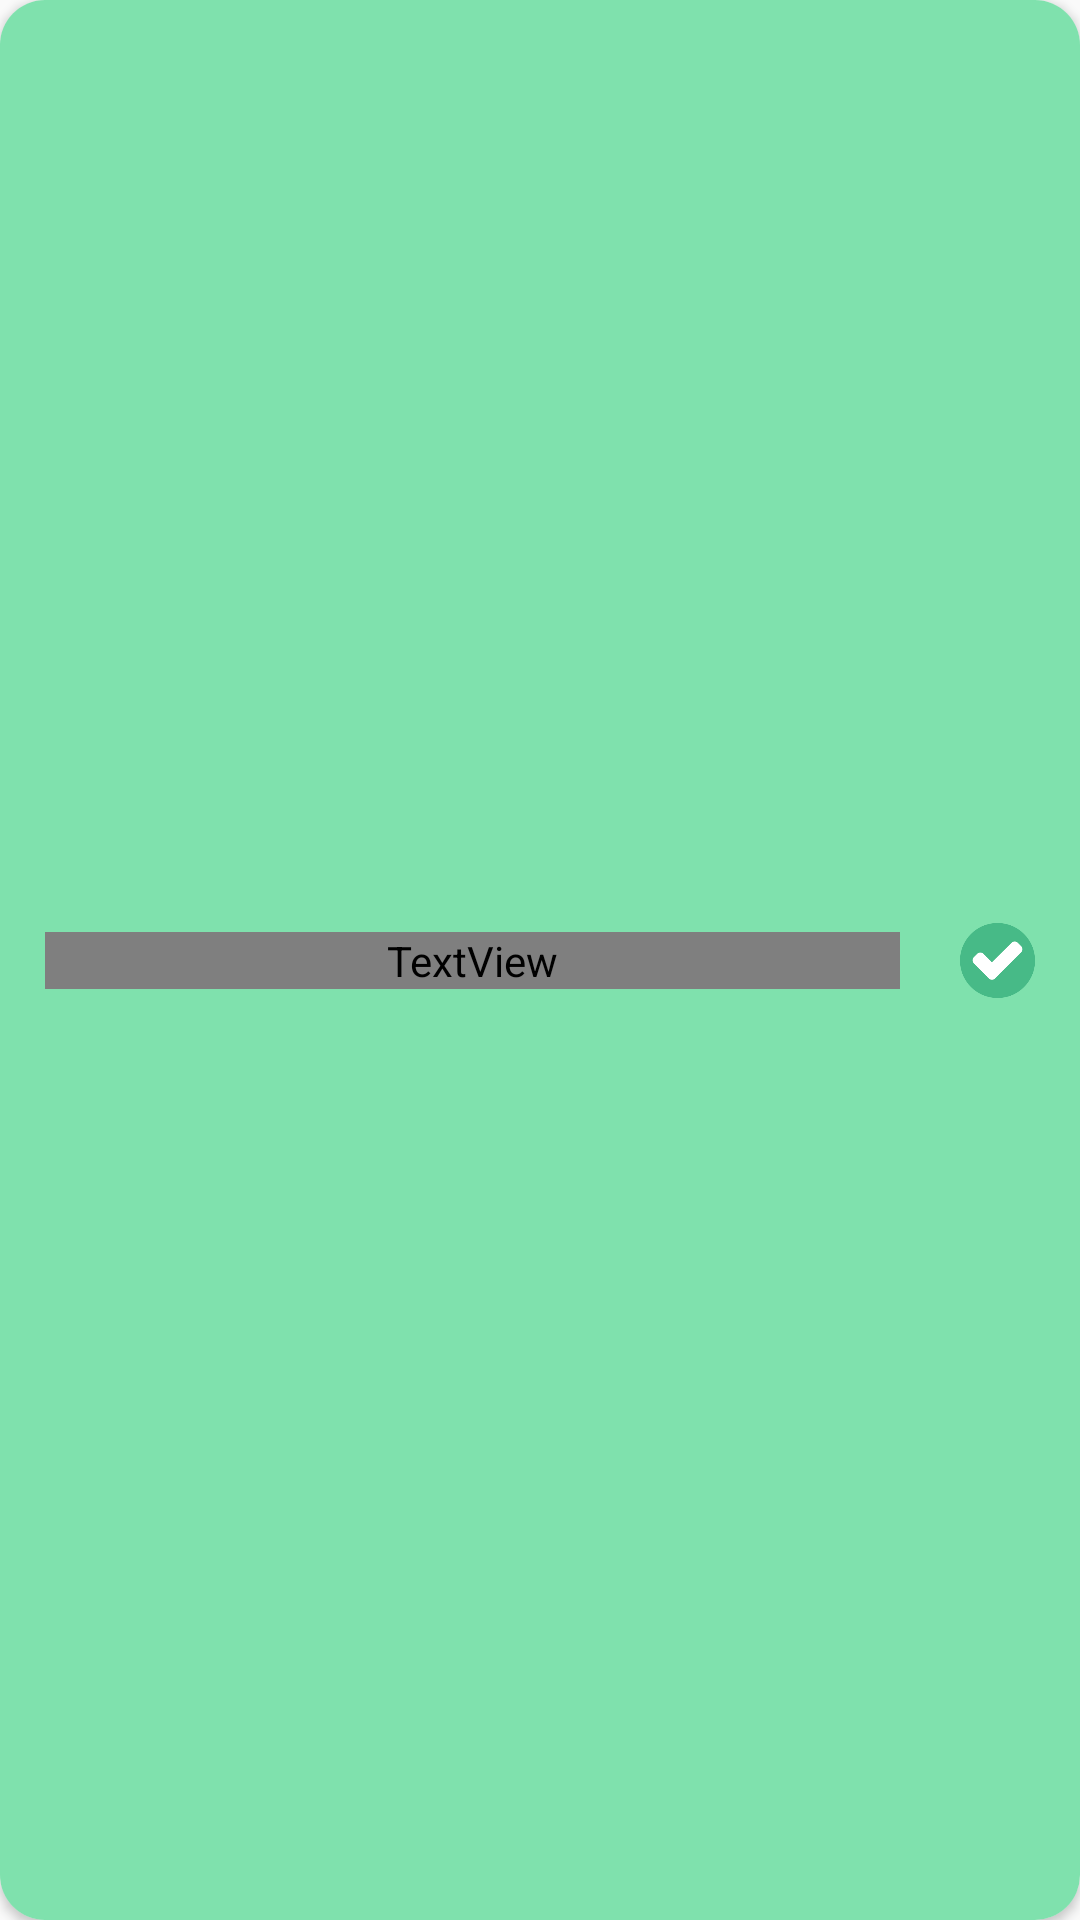

Locate icon controls on the screen. Image size 1080x1920, boxes as (x1=x1, y1=y1, x2=x2, y2=y2).
check: (x1=960, y1=923, x2=1035, y2=998)
